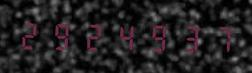four: (110, 19, 140, 53)
nine: (48, 18, 78, 52), (141, 20, 171, 53)
seven: (203, 21, 233, 54)
three: (172, 20, 202, 54)
two: (17, 18, 47, 51), (79, 19, 109, 52)
